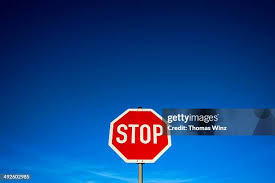stop sign: (107, 108, 173, 165)
